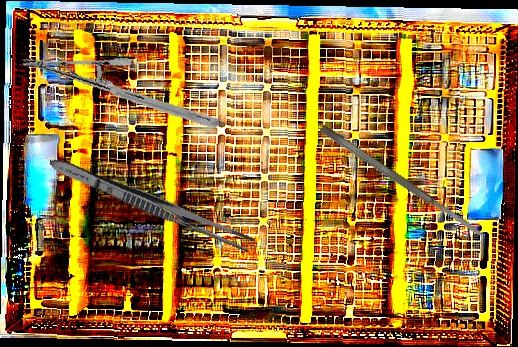Dressing Forceps: (45, 153, 258, 255)
Needle Holder: (21, 23, 220, 162)
Spatula Surgical: (318, 122, 485, 241)
